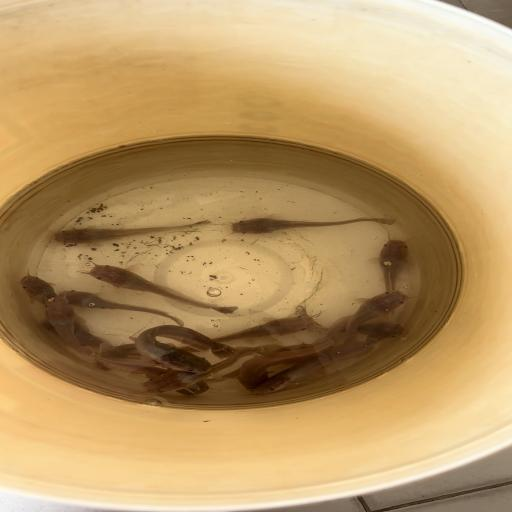lele: (84, 264, 240, 315), (257, 340, 379, 397), (136, 345, 259, 395), (238, 338, 339, 393), (87, 351, 209, 395), (181, 312, 318, 350), (126, 326, 234, 372), (209, 341, 319, 386), (58, 289, 190, 326), (335, 290, 411, 348), (51, 219, 212, 245), (292, 306, 410, 341), (227, 213, 399, 237), (44, 296, 100, 359), (373, 238, 418, 316), (37, 317, 114, 352), (87, 340, 155, 373), (20, 274, 62, 307)
